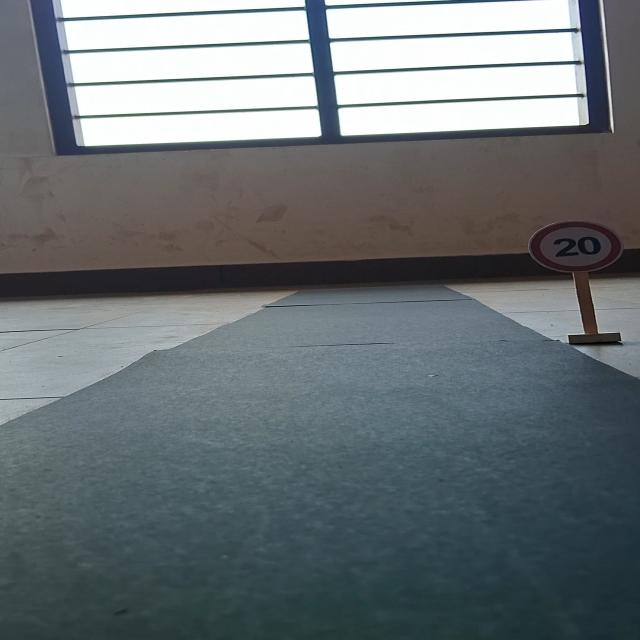Speed20: (524, 218, 632, 277)
